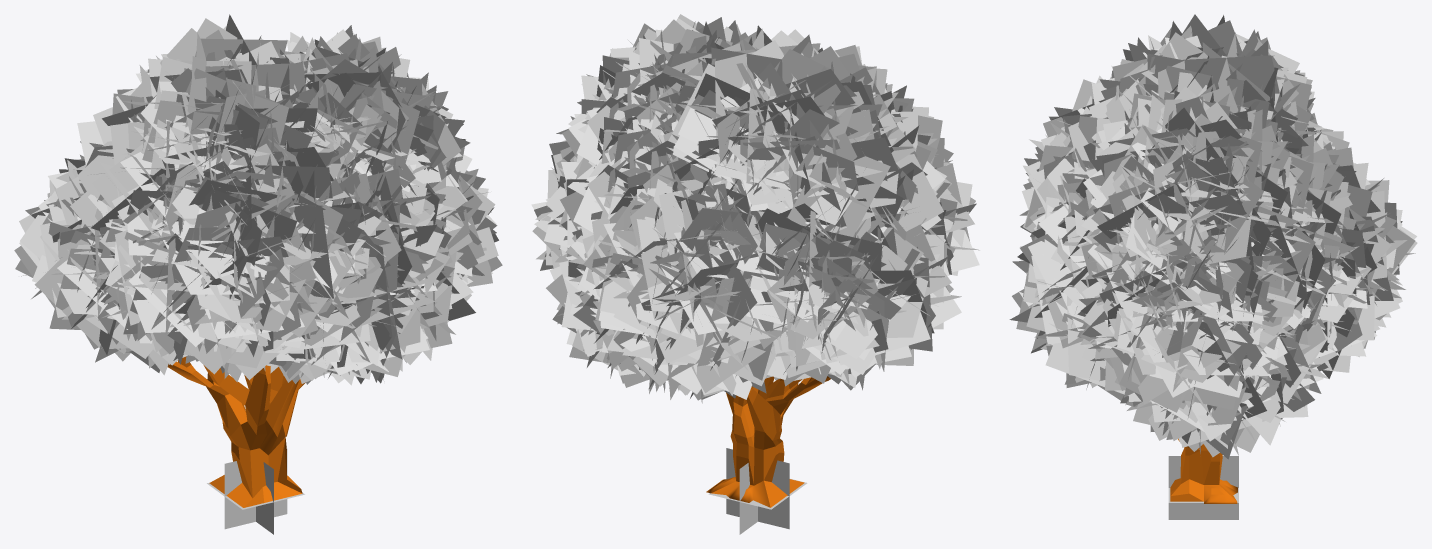
The model's file is GeometryTree.fbx.
3 views of the same model, side by side, from view 1: azimuth 30°, elevation 25°; view 2: azimuth 150°, elevation 25°; view 3: azimuth 270°, elevation 25° (orthographic). The views are drawn at different scales.
Parts seen in each view (by area): view 1: LeafSphere4, LeafSphere6, LeafSphere2, LeafSpere10, LeafSphere5, Trunk, LeafSphere3, Leaves; view 2: LeafSphere6, LeafSphere8, LeafSphere5, LeafSpere10, LeafSphere1, Trunk, LeafSphere4, LeafSphere7, LeafSphere3, Leaves; view 3: LeafSpere10, LeafSphere3, LeafSphere6, LeafSphere2, LeafSphere8, LeafSphere1, LeafSphere7, LeafSphere4, Trunk, Leaves, LeafSphere5.
Part boxes in pixels (bbox=[...]): LeafSphere4: bbox=[90, 134, 392, 382]; LeafSphere6: bbox=[70, 14, 352, 255]; LeafSphere2: bbox=[276, 158, 475, 385]; LeafSpere10: bbox=[276, 25, 470, 195]; LeafSphere5: bbox=[14, 155, 207, 375]; Trunk: bbox=[167, 356, 305, 507]; LeafSphere3: bbox=[365, 139, 502, 286]; Leaves: bbox=[207, 449, 304, 534]; LeafSphere6: bbox=[661, 25, 946, 254]; LeafSphere8: bbox=[568, 179, 786, 403]; LeafSphere5: bbox=[713, 183, 961, 390]; LeafSpere10: bbox=[556, 14, 756, 174]; LeafSphere1: bbox=[547, 89, 748, 271]; Trunk: bbox=[706, 376, 830, 507]; LeafSphere4: bbox=[886, 84, 979, 275]; LeafSphere7: bbox=[546, 256, 690, 395]; LeafSphere3: bbox=[531, 114, 579, 270]; Leaves: bbox=[708, 448, 807, 534]; LeafSpere10: bbox=[1081, 83, 1305, 301]; LeafSphere3: bbox=[1074, 223, 1302, 417]; LeafSphere6: bbox=[1089, 14, 1326, 152]; LeafSphere2: bbox=[1009, 173, 1128, 400]; LeafSphere8: bbox=[1301, 134, 1417, 378]; LeafSphere1: bbox=[1234, 103, 1365, 335]; LeafSphere7: bbox=[1120, 320, 1336, 459]; LeafSphere4: bbox=[1019, 75, 1128, 237]; Trunk: bbox=[1170, 438, 1237, 503]; Leaves: bbox=[1168, 456, 1238, 519]; LeafSphere5: bbox=[1311, 113, 1355, 163].
Bounding box in the file's own units: 752 × 838 × 648.
